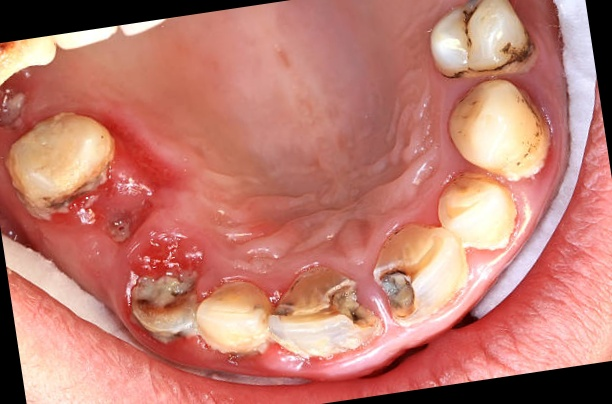Gingivitis: (129, 221, 205, 285), (73, 177, 152, 236)
